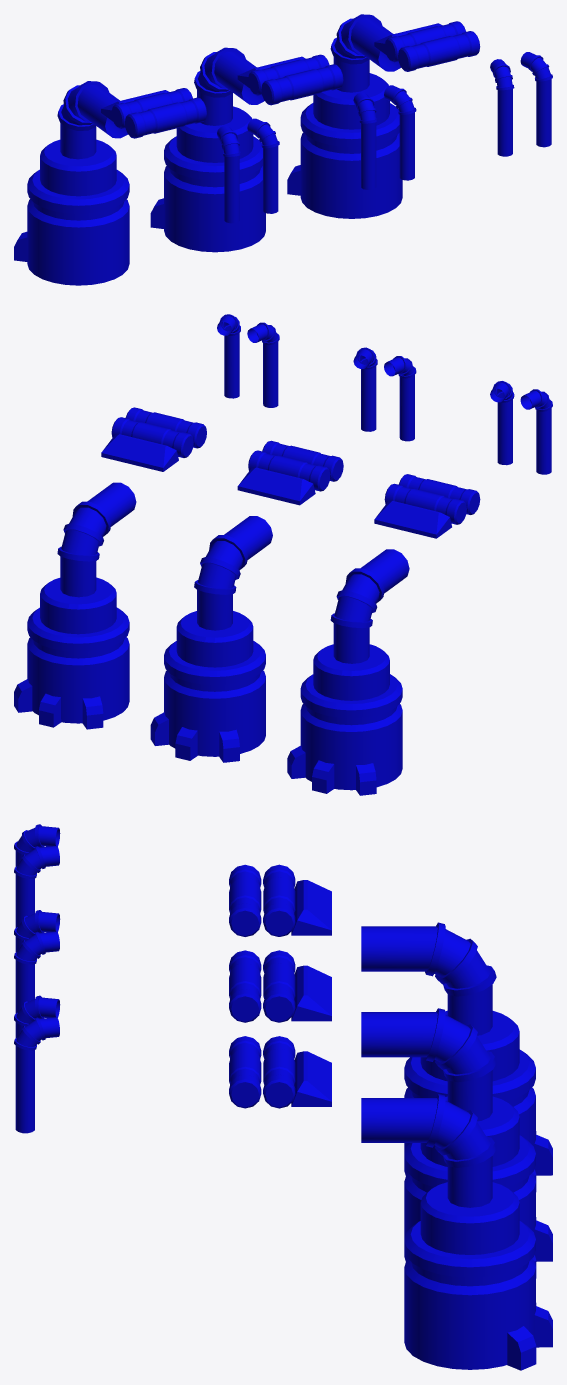
File: Serbatoi Tubi.fbx
3 views of the same model, one above another, from view 1: azimuth 30°, elevation 25°; view 2: azimuth 150°, elevation 25°; view 3: azimuth 270°, elevation 25° (orthographic). The views are drawn at different scales.
Visible parts, largest first — view 1: Serbatoi_Tubi1; view 2: Serbatoi_Tubi1; view 3: Serbatoi_Tubi1.
Part boxes in pixels (x1,y1,x2,y2): Serbatoi_Tubi1: [14, 14, 552, 285]; Serbatoi_Tubi1: [14, 314, 552, 795]; Serbatoi_Tubi1: [14, 824, 552, 1370].
Size of the model in its own units: 40.22 by 27.65 by 40.28.
